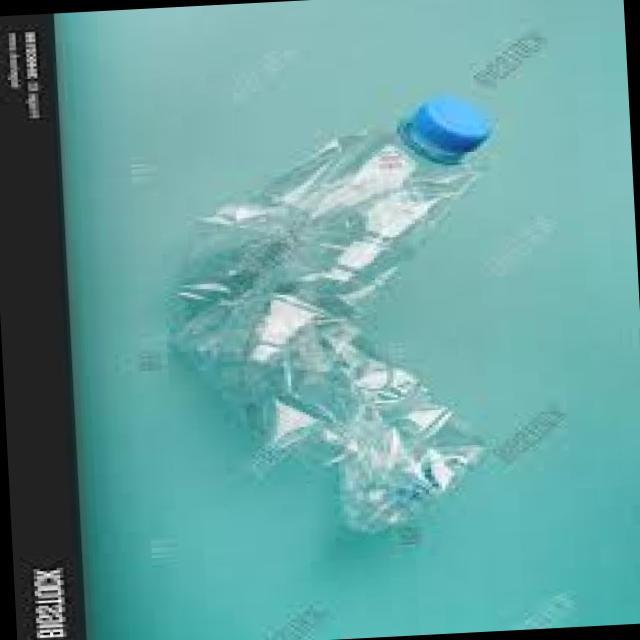defected: (151, 86, 534, 548)
